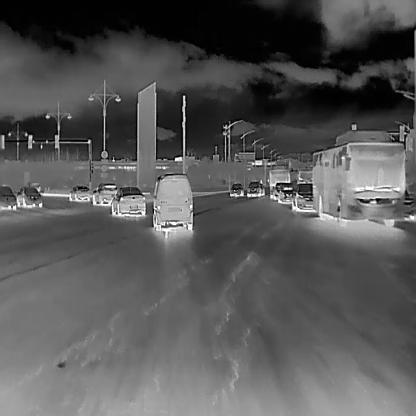bus: (312, 138, 404, 228), (269, 170, 289, 196)
car: (152, 173, 193, 232), (109, 184, 146, 216), (16, 184, 42, 208), (92, 182, 116, 206), (292, 182, 312, 210), (0, 183, 15, 210), (66, 186, 88, 202), (246, 180, 264, 196), (279, 183, 294, 202), (273, 181, 287, 201), (228, 182, 243, 196)
